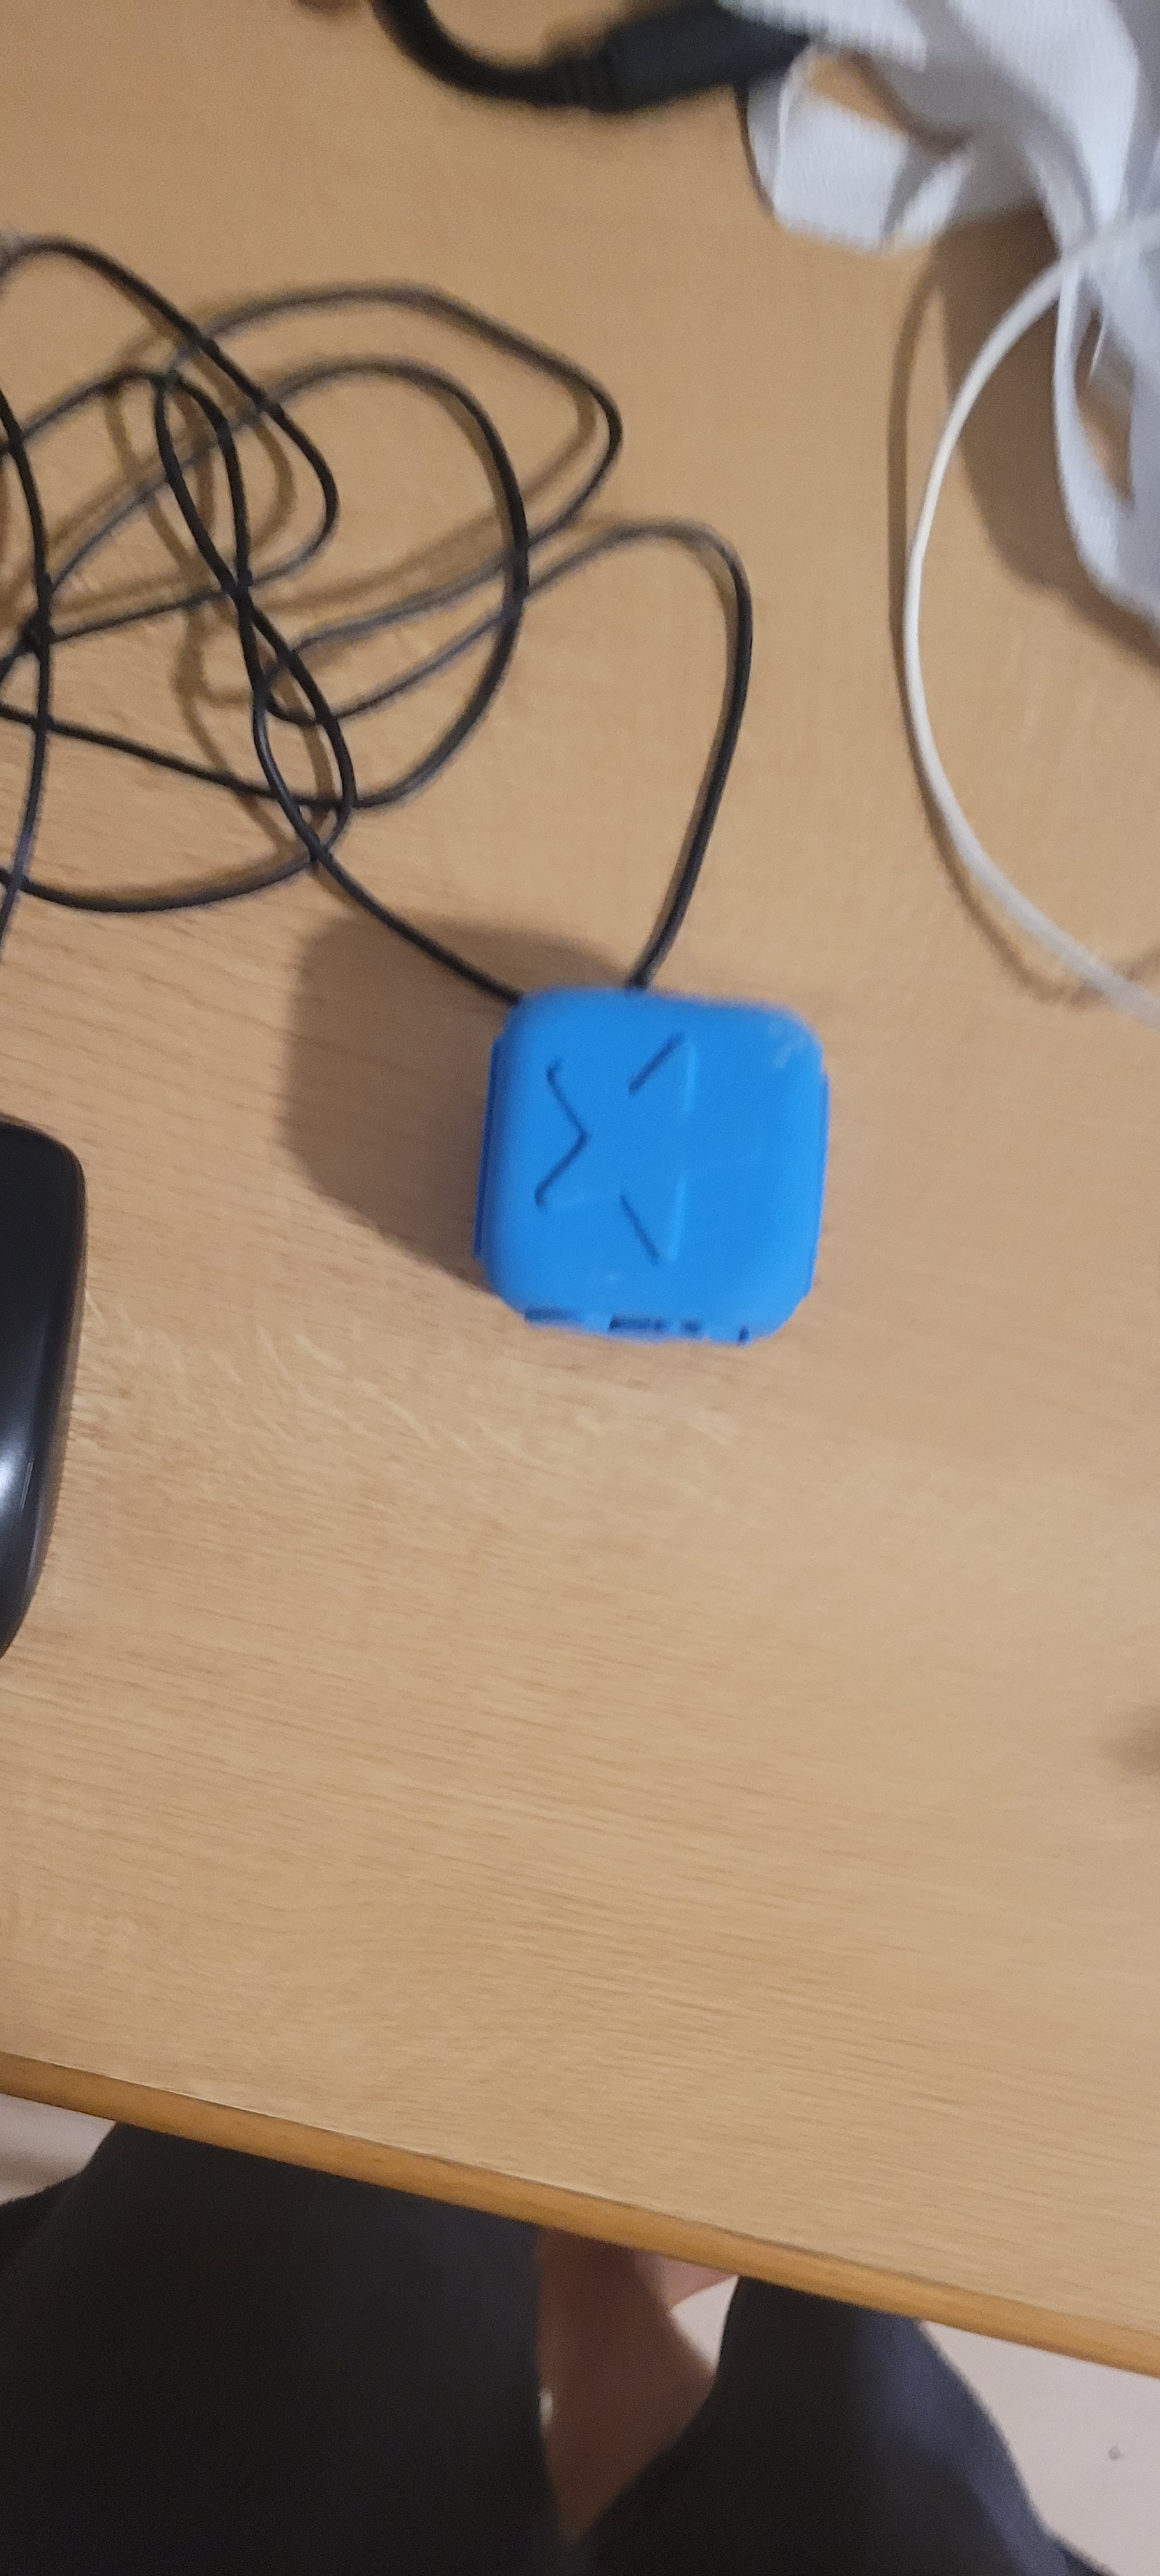Star: (519, 987, 803, 1288)
